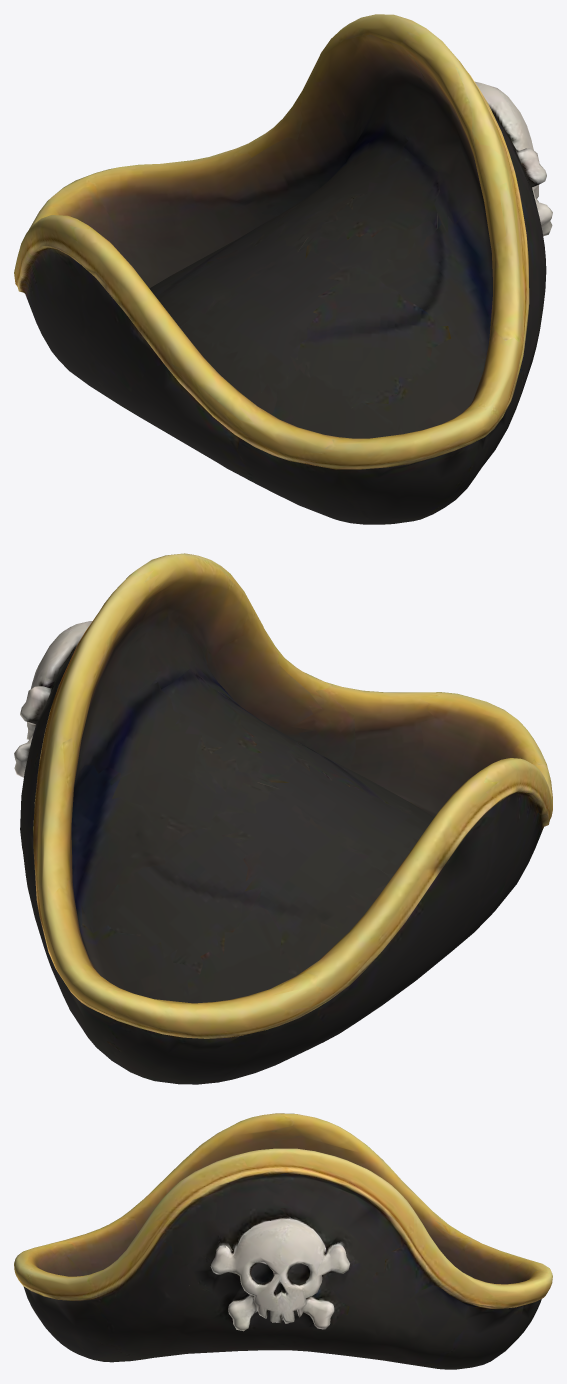
Rendered from hat_pirate.glb.
3 views of the same model, one above another, from view 1: azimuth 30°, elevation 25°; view 2: azimuth 150°, elevation 25°; view 3: azimuth 270°, elevation 25° (orthographic). The views are drawn at different scales.
Visible parts, largest first — view 1: tripo_node_5aecc147-ef79-4b07-99e7-29275384aaa7; view 2: tripo_node_5aecc147-ef79-4b07-99e7-29275384aaa7; view 3: tripo_node_5aecc147-ef79-4b07-99e7-29275384aaa7.
Boxes of the visible parts, left/top/right/bottom form: tripo_node_5aecc147-ef79-4b07-99e7-29275384aaa7: left=14, top=14, right=552, bottom=524; tripo_node_5aecc147-ef79-4b07-99e7-29275384aaa7: left=14, top=553, right=552, bottom=1084; tripo_node_5aecc147-ef79-4b07-99e7-29275384aaa7: left=14, top=1113, right=552, bottom=1369.
Size of the model in its own units: 0.7111 by 0.5426 by 1.
1 material, 1 textured.
